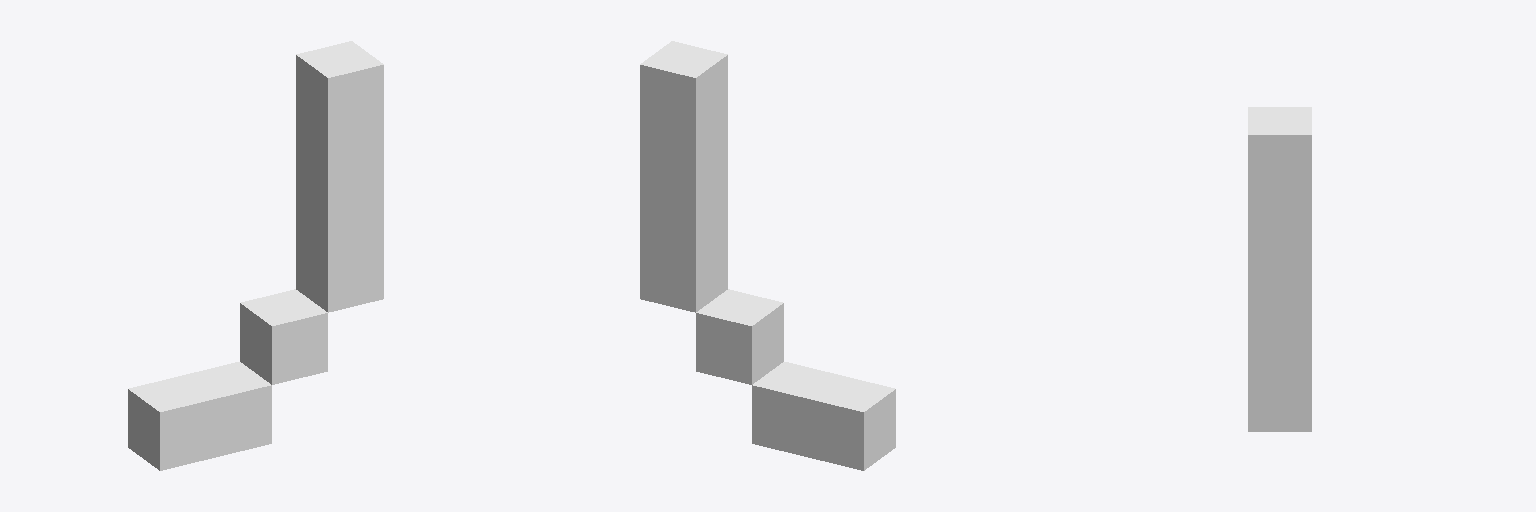
Rendered from human-1-right_hand_attack.obj.
3 renders of one model, left to right at view 1: azimuth 30°, elevation 25°; view 2: azimuth 150°, elevation 25°; view 3: azimuth 270°, elevation 25°, orthographic.
Visible parts, largest first — view 1: right_hand_attack; view 2: right_hand_attack; view 3: right_hand_attack.
Part boxes in pixels (bbox=[...]): right_hand_attack: bbox=[128, 41, 383, 470]; right_hand_attack: bbox=[640, 41, 895, 470]; right_hand_attack: bbox=[1248, 107, 1311, 431].
Bounding box in the file's own units: 0.4 × 0.6 × 0.1.